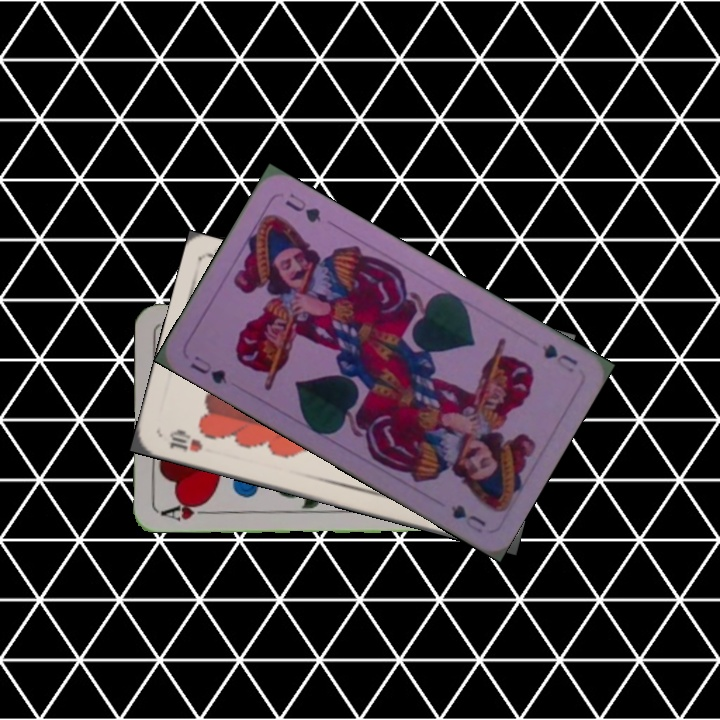GU: (185, 351, 230, 387), (537, 340, 580, 376)
H10: (165, 426, 205, 455)
HA: (158, 497, 217, 524)
